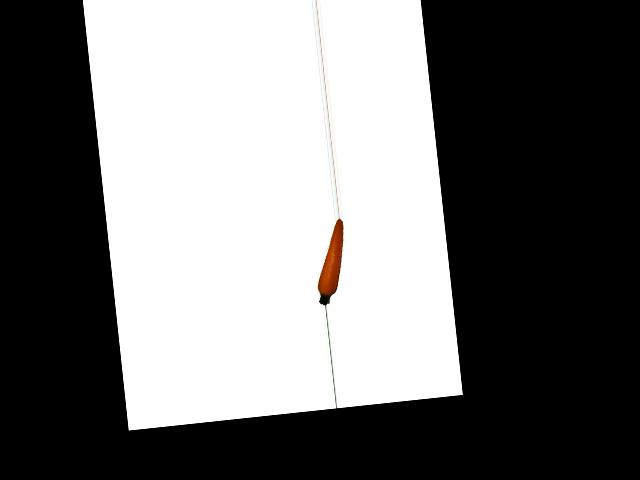carrot: (310, 219, 351, 306)
